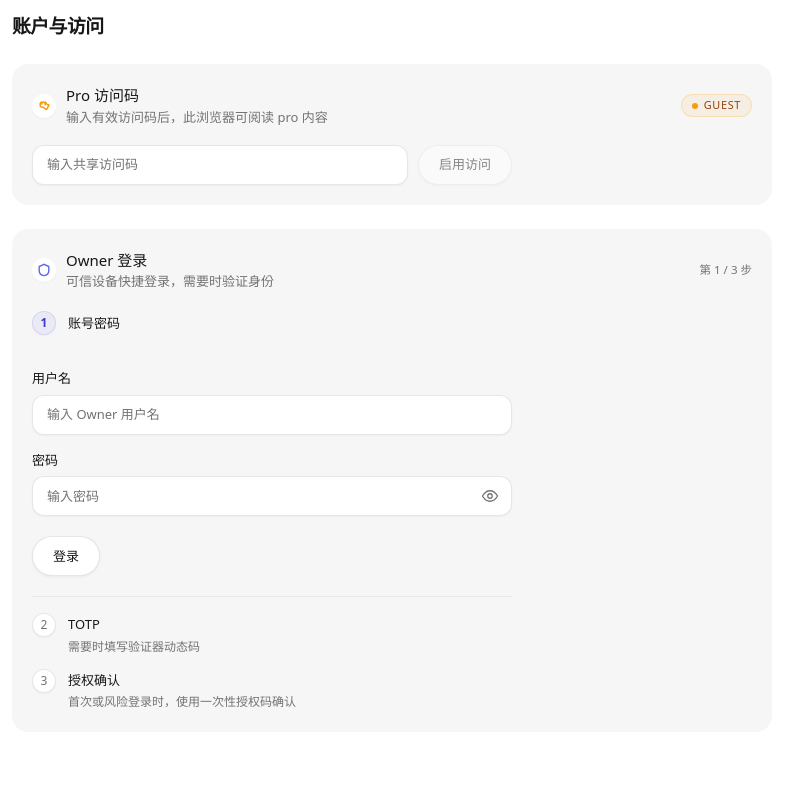
Test: toggles the login password without submitting and renders missing-input errors in the page
Click the button "登录" at (66, 556), box [32,536,100,576]
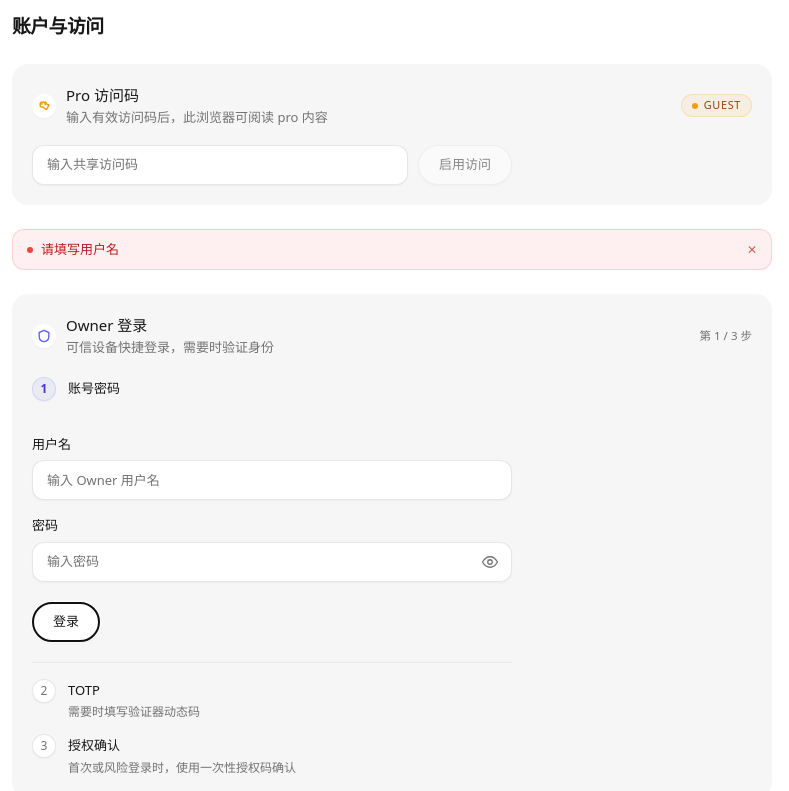
Check: the message shows "请填写用户名", box [41,240,119,258]
Type "unsent-password" into the password field labelled "密码" at (272, 562), box [32,542,512,582]
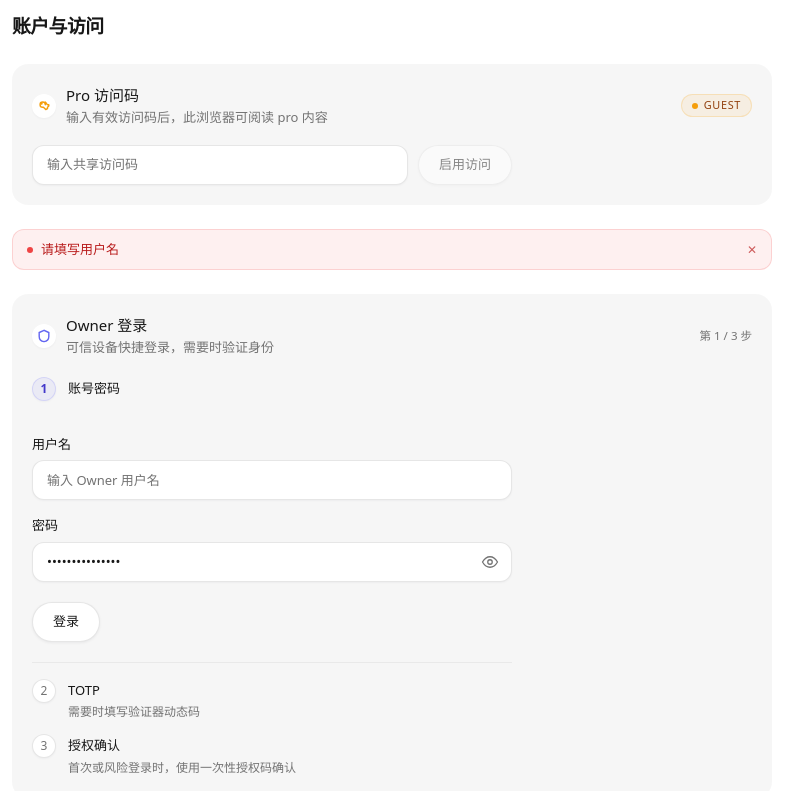
Click the button named "显示密码" at (490, 562), box [472,544,508,580]
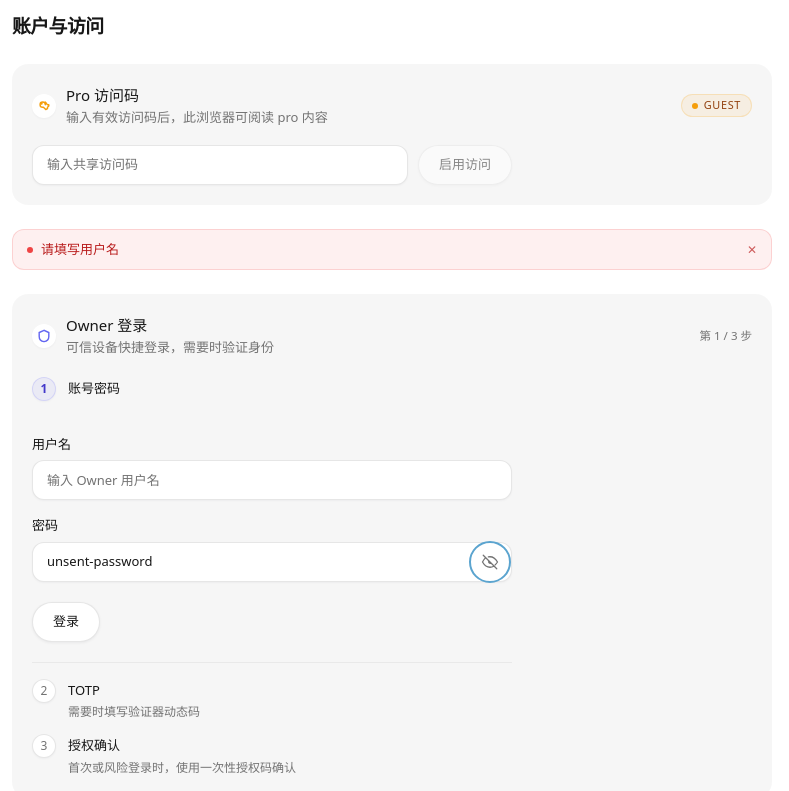
Check: the field labelled "密码" shows its text, box [32,542,512,582]
Click the button named "隐藏密码" at (490, 562), box [472,544,508,580]
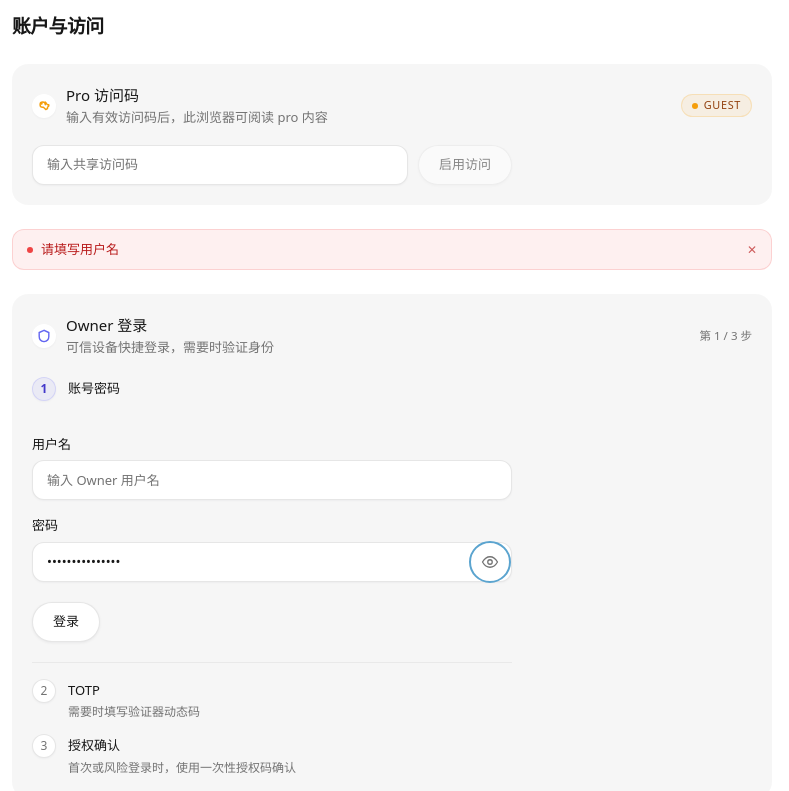
Check: the password field labelled "密码" hides its text, box [32,542,512,582]
